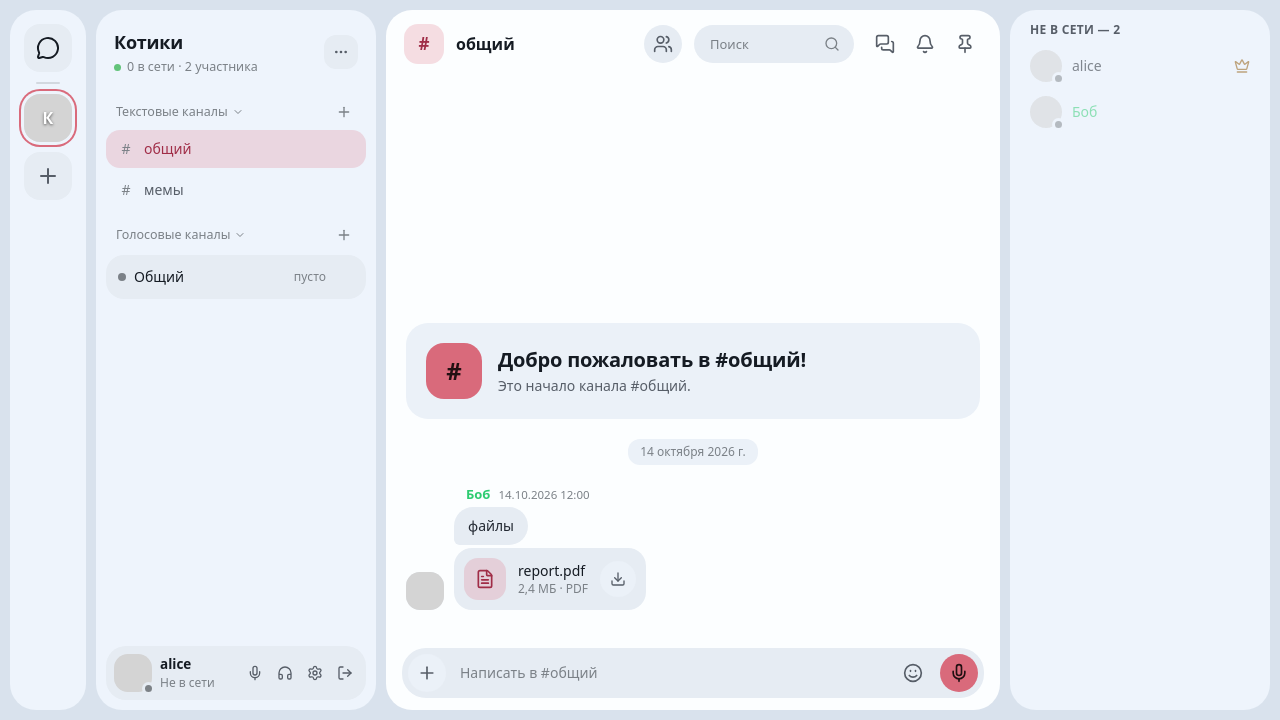
it: attachments in messages › in the desktop, says it is saving once the whole file is here
What coordinates should you click on to do the following:
click the link "report.pdf 2,4 МБ · PDF"
I would click on:
 (550, 579)
Its box is [454, 548, 646, 610].
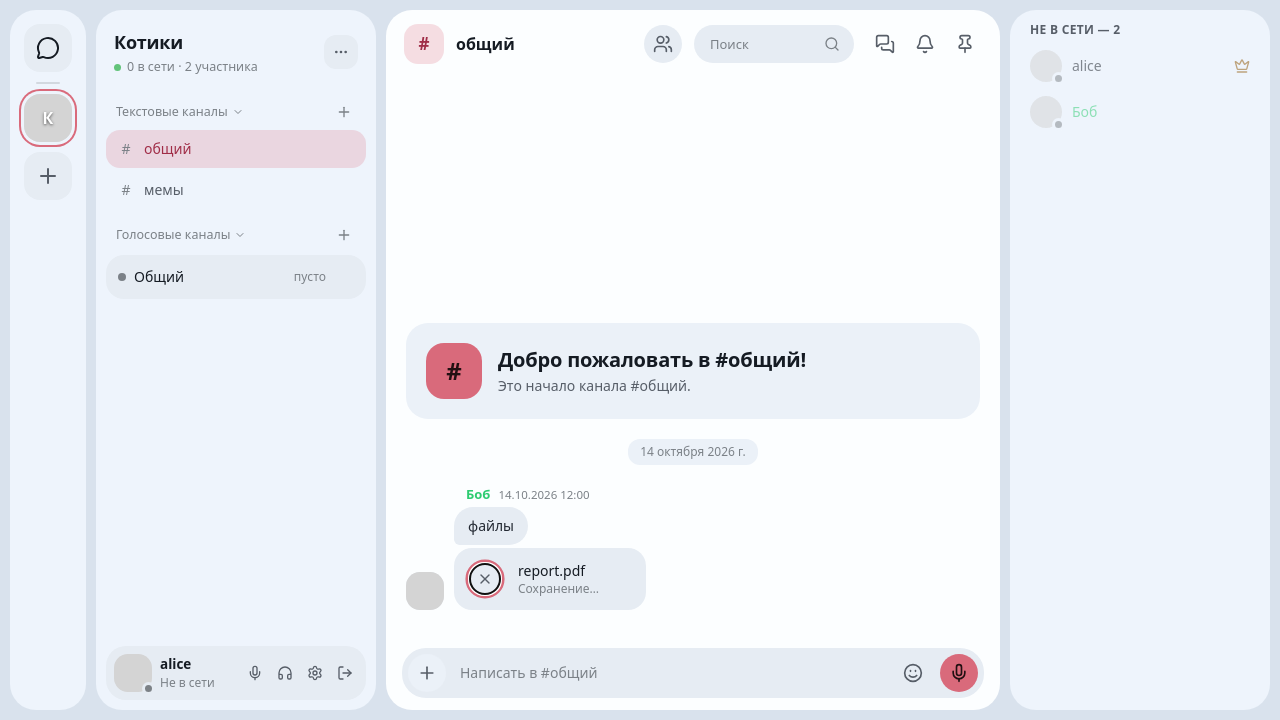
Expected: the text "Сохранение…" is shown, [518, 580, 599, 597]
